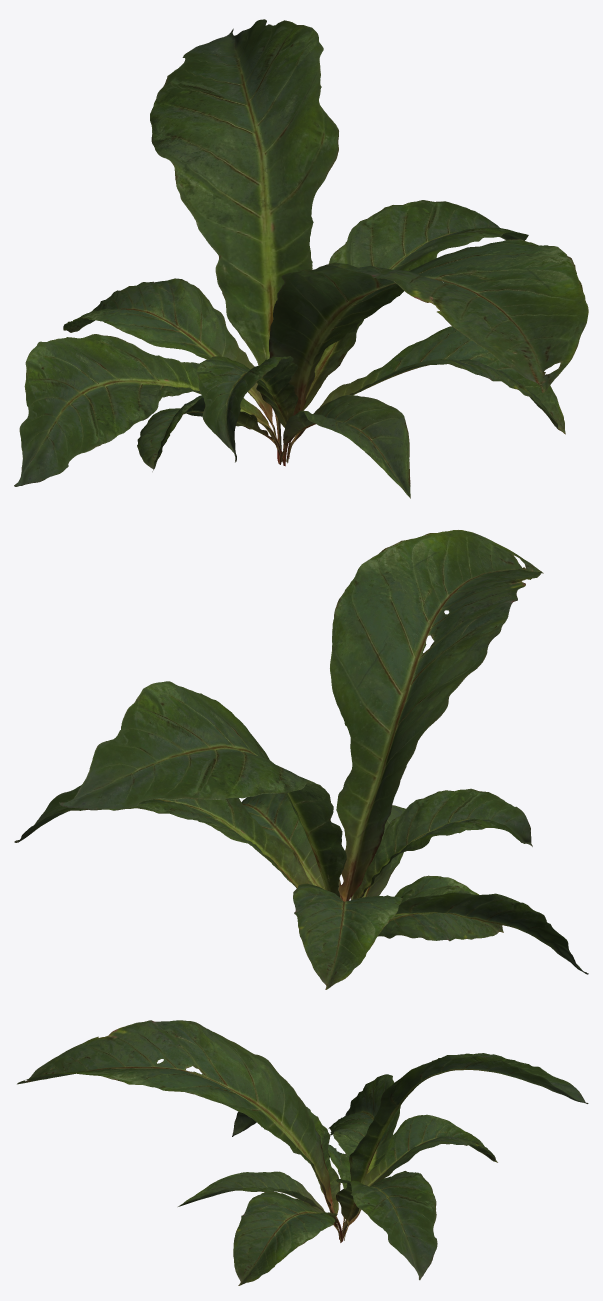
The model's file is anthurium_botany_01_06.glb.
3 views of the same model, one above another, from view 1: azimuth 30°, elevation 25°; view 2: azimuth 150°, elevation 25°; view 3: azimuth 270°, elevation 25° (orthographic). The views are drawn at different scales.
Parts seen in each view (by area): view 1: anthurium_botany_01; view 2: anthurium_botany_01; view 3: anthurium_botany_01.
Boxes of the visible parts, x1,y1,x2,y2 form: anthurium_botany_01: [14, 19, 588, 498]; anthurium_botany_01: [14, 530, 588, 989]; anthurium_botany_01: [17, 1020, 588, 1285].
Size of the model in its own units: 0.8962 by 0.4997 by 1.14.
Materials: 1 (1 with a texture image).
